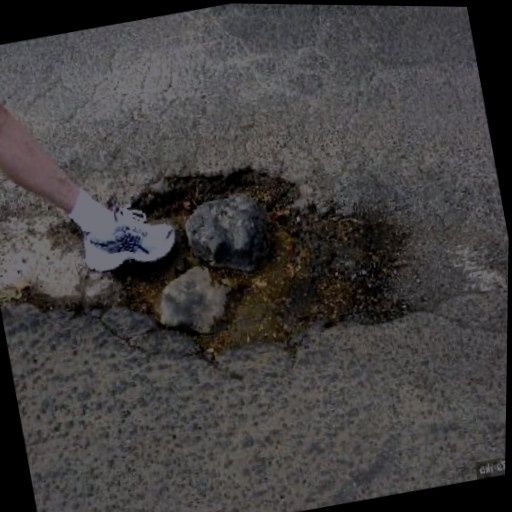pothole: (91, 128, 430, 380)
